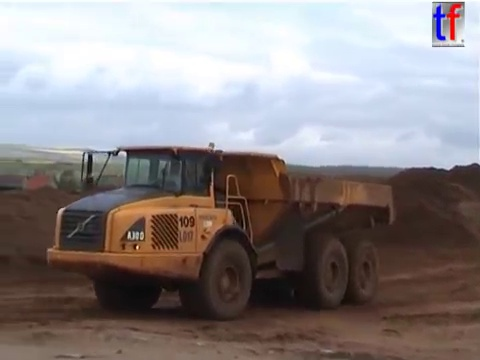truck: (43, 140, 397, 323)
